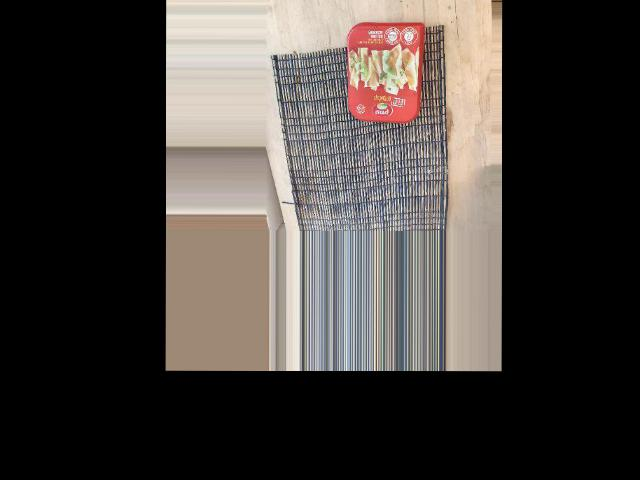cheese: (342, 13, 424, 126)
